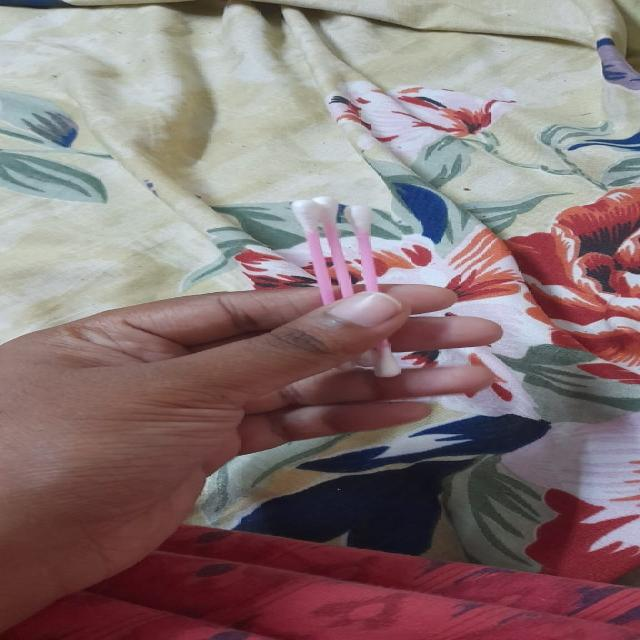Earbud - Non Recyclable: (286, 195, 406, 379)
